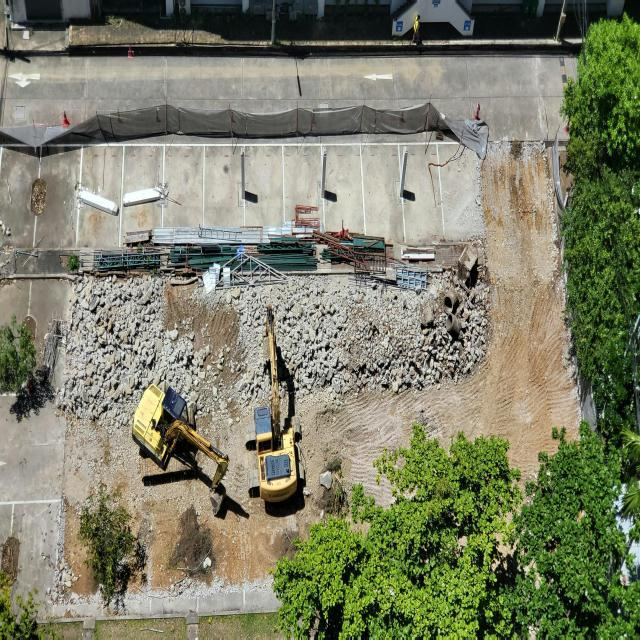excavator: (132, 382, 230, 516), (254, 303, 305, 503)
